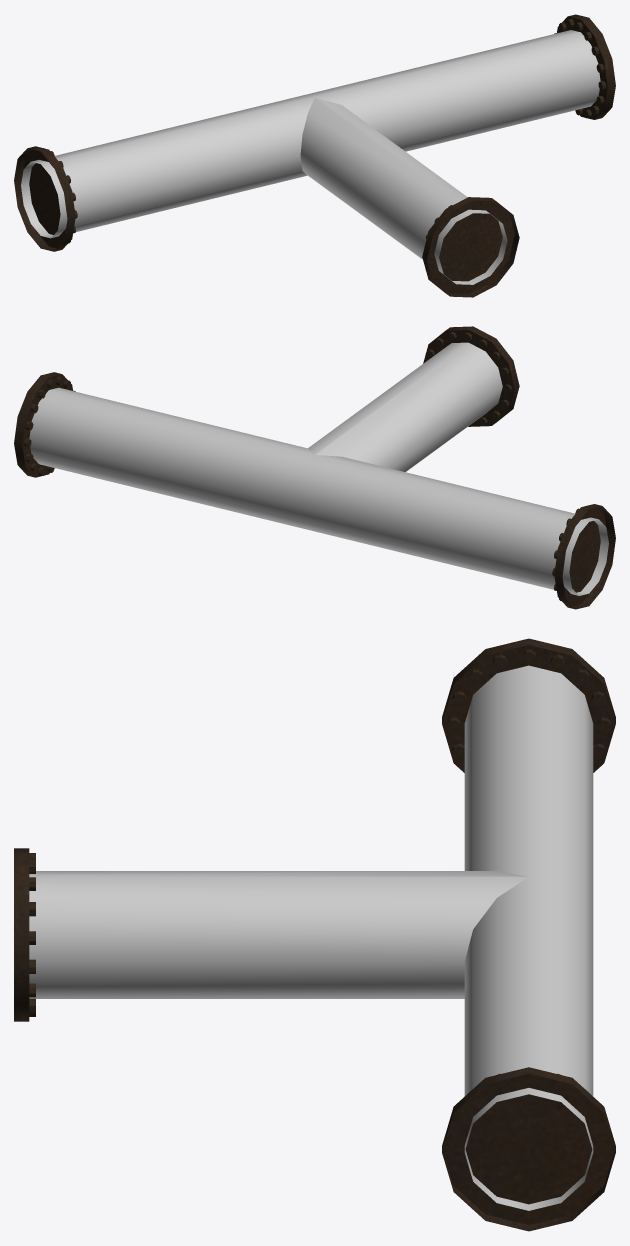
Rendered from pipe_bx_4.fbx.
3 views of the same model, one above another, from view 1: azimuth 30°, elevation 25°; view 2: azimuth 150°, elevation 25°; view 3: azimuth 270°, elevation 25° (orthographic). The views are drawn at different scales.
Visible parts, largest first — view 1: pipe_bx_4; view 2: pipe_bx_4; view 3: pipe_bx_4.
Part boxes in pixels (x1,y1,x2,y2): pipe_bx_4: (14,14,615,297); pipe_bx_4: (14,326,615,609); pipe_bx_4: (14,638,615,1231).
Size of the model in its own units: 4 by 2.34 by 0.676.
